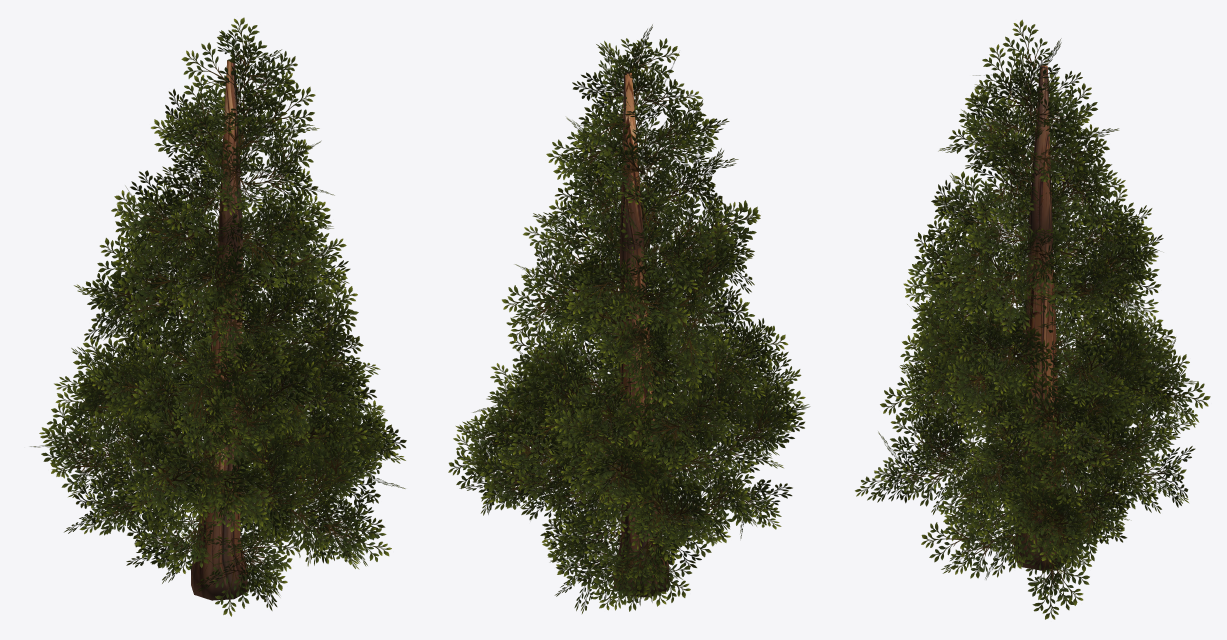
The model's file is newTreePacked - Copy.glb.
3 renders of one model, left to right at view 1: azimuth 30°, elevation 25°; view 2: azimuth 150°, elevation 25°; view 3: azimuth 270°, elevation 25°, orthographic. The views are drawn at different scales.
Parts seen in each view (by area): view 1: Mesh_1, Mesh_1.001, Trunk; view 2: Mesh_1, Mesh_1.001, Trunk; view 3: Mesh_1, Trunk, Mesh_1.001.
Part boxes in pixels (bbox=[...]): Mesh_1: bbox=[30, 17, 406, 569]; Mesh_1.001: bbox=[125, 347, 308, 616]; Trunk: bbox=[191, 59, 247, 600]; Mesh_1: bbox=[448, 24, 810, 610]; Mesh_1.001: bbox=[540, 356, 724, 613]; Trunk: bbox=[614, 72, 669, 597]; Mesh_1: bbox=[855, 19, 1210, 579]; Trunk: bbox=[1014, 65, 1069, 570]; Mesh_1.001: bbox=[943, 347, 1126, 619].
Bounding box in the file's own units: 65.87 × 108 × 60.52.
3 materials, 3 textured.
